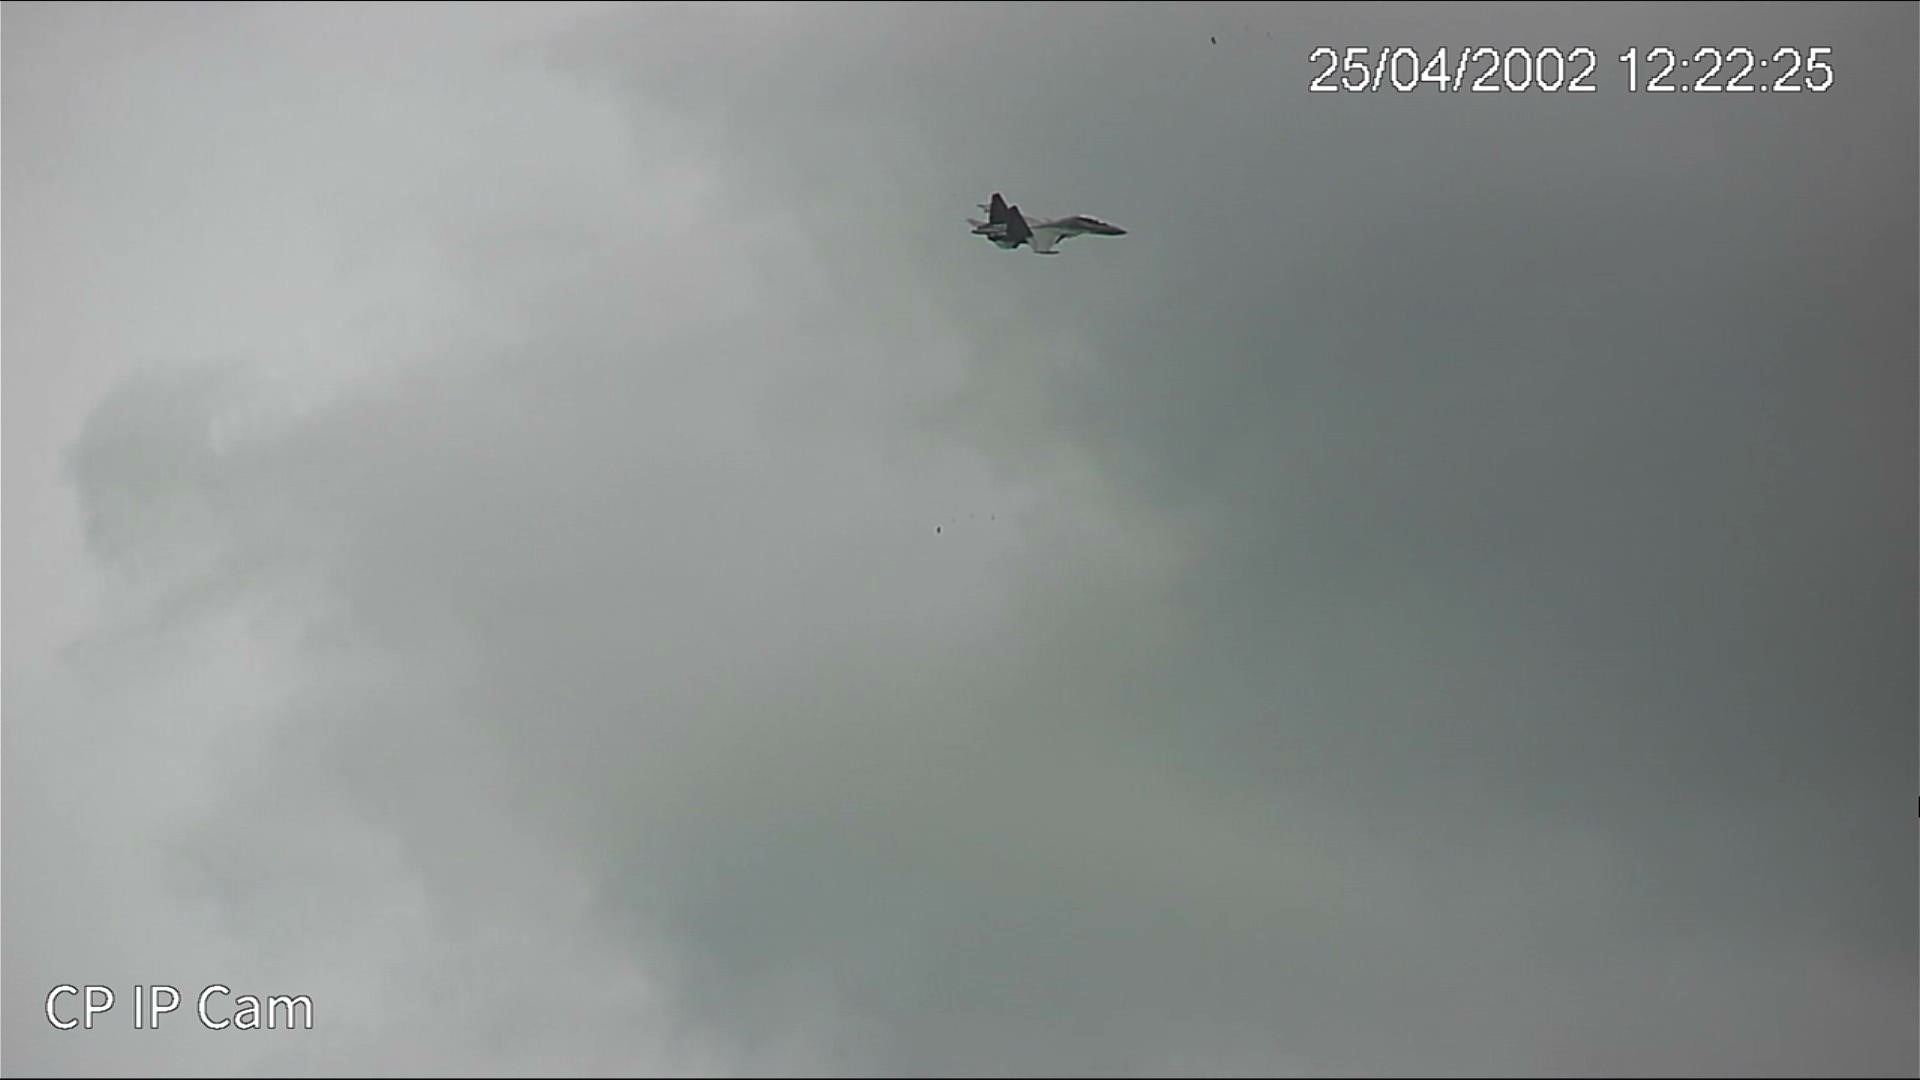SU_30: (965, 189, 1127, 262)
